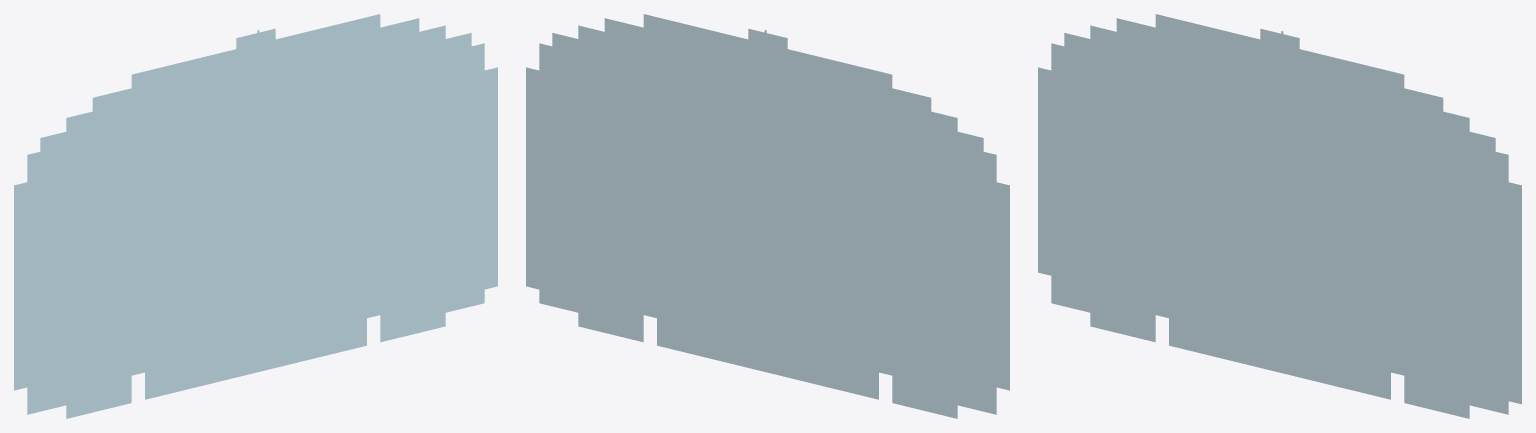
File: wp_water_97.obj
The picture shows the model from 3 angles, left to right: view 1: azimuth 30°, elevation 25°; view 2: azimuth 150°, elevation 25°; view 3: azimuth 330°, elevation 25°; orthographic projection.
Bounding box in the file's own units: 0.515 × 0.348 × 0.
1 material, 1 textured.
